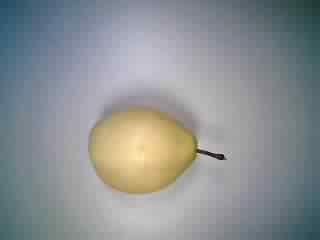pear: (74, 96, 233, 196)
